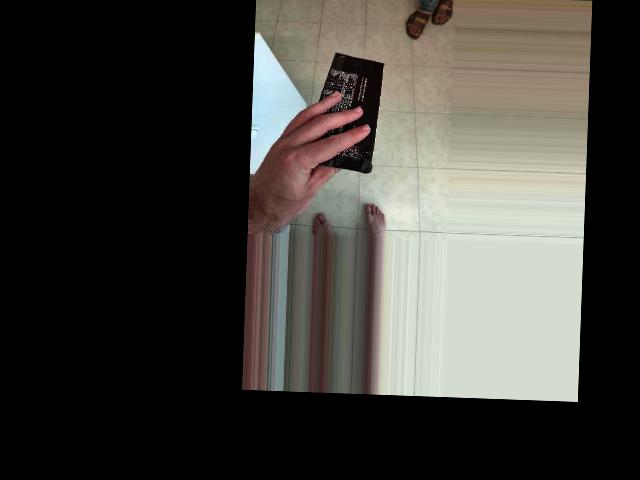chocolate: (328, 41, 455, 123)
